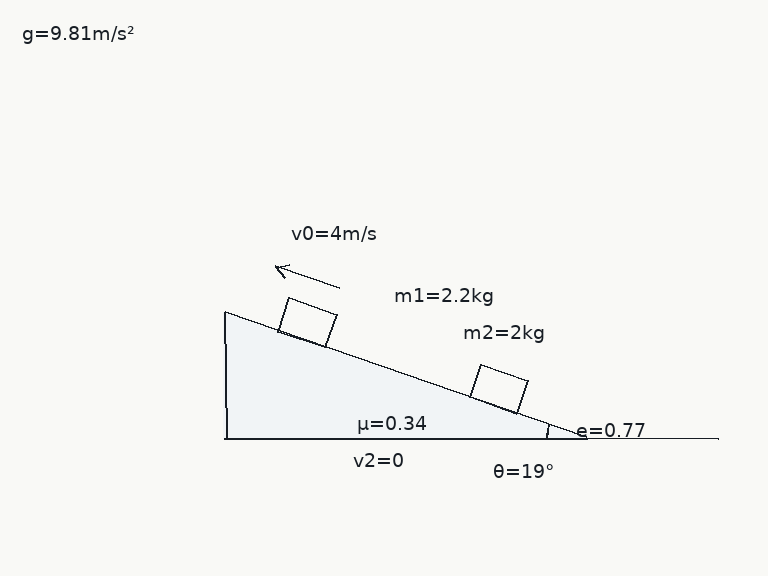block: (276, 296, 338, 349), (468, 362, 529, 415)
ramp: (222, 311, 589, 440)
